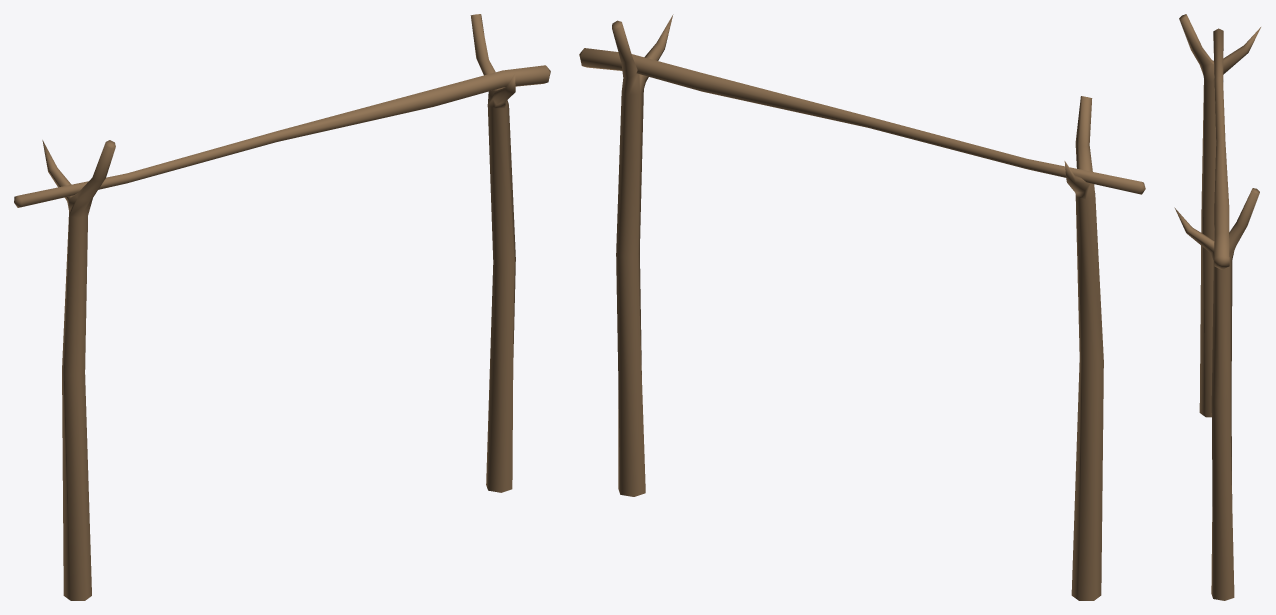
The model's file is rpgpp_lt_hanger_wood_01 -col.glb.
3 renders of one model, left to right at view 1: azimuth 30°, elevation 25°; view 2: azimuth 150°, elevation 25°; view 3: azimuth 270°, elevation 25°, orthographic. The views are drawn at different scales.
Parts seen in each view (by area): view 1: rpgpp_lt_hanger_wood_01 -col; view 2: rpgpp_lt_hanger_wood_01 -col; view 3: rpgpp_lt_hanger_wood_01 -col.
Boxes of the visible parts, <box> form: rpgpp_lt_hanger_wood_01 -col: <box>14,14,550,600</box>; rpgpp_lt_hanger_wood_01 -col: <box>579,14,1145,600</box>; rpgpp_lt_hanger_wood_01 -col: <box>1174,14,1260,600</box>.
Bounding box in the file's own units: 2.64 × 2.16 × 0.4233.
1 material, 1 textured.
